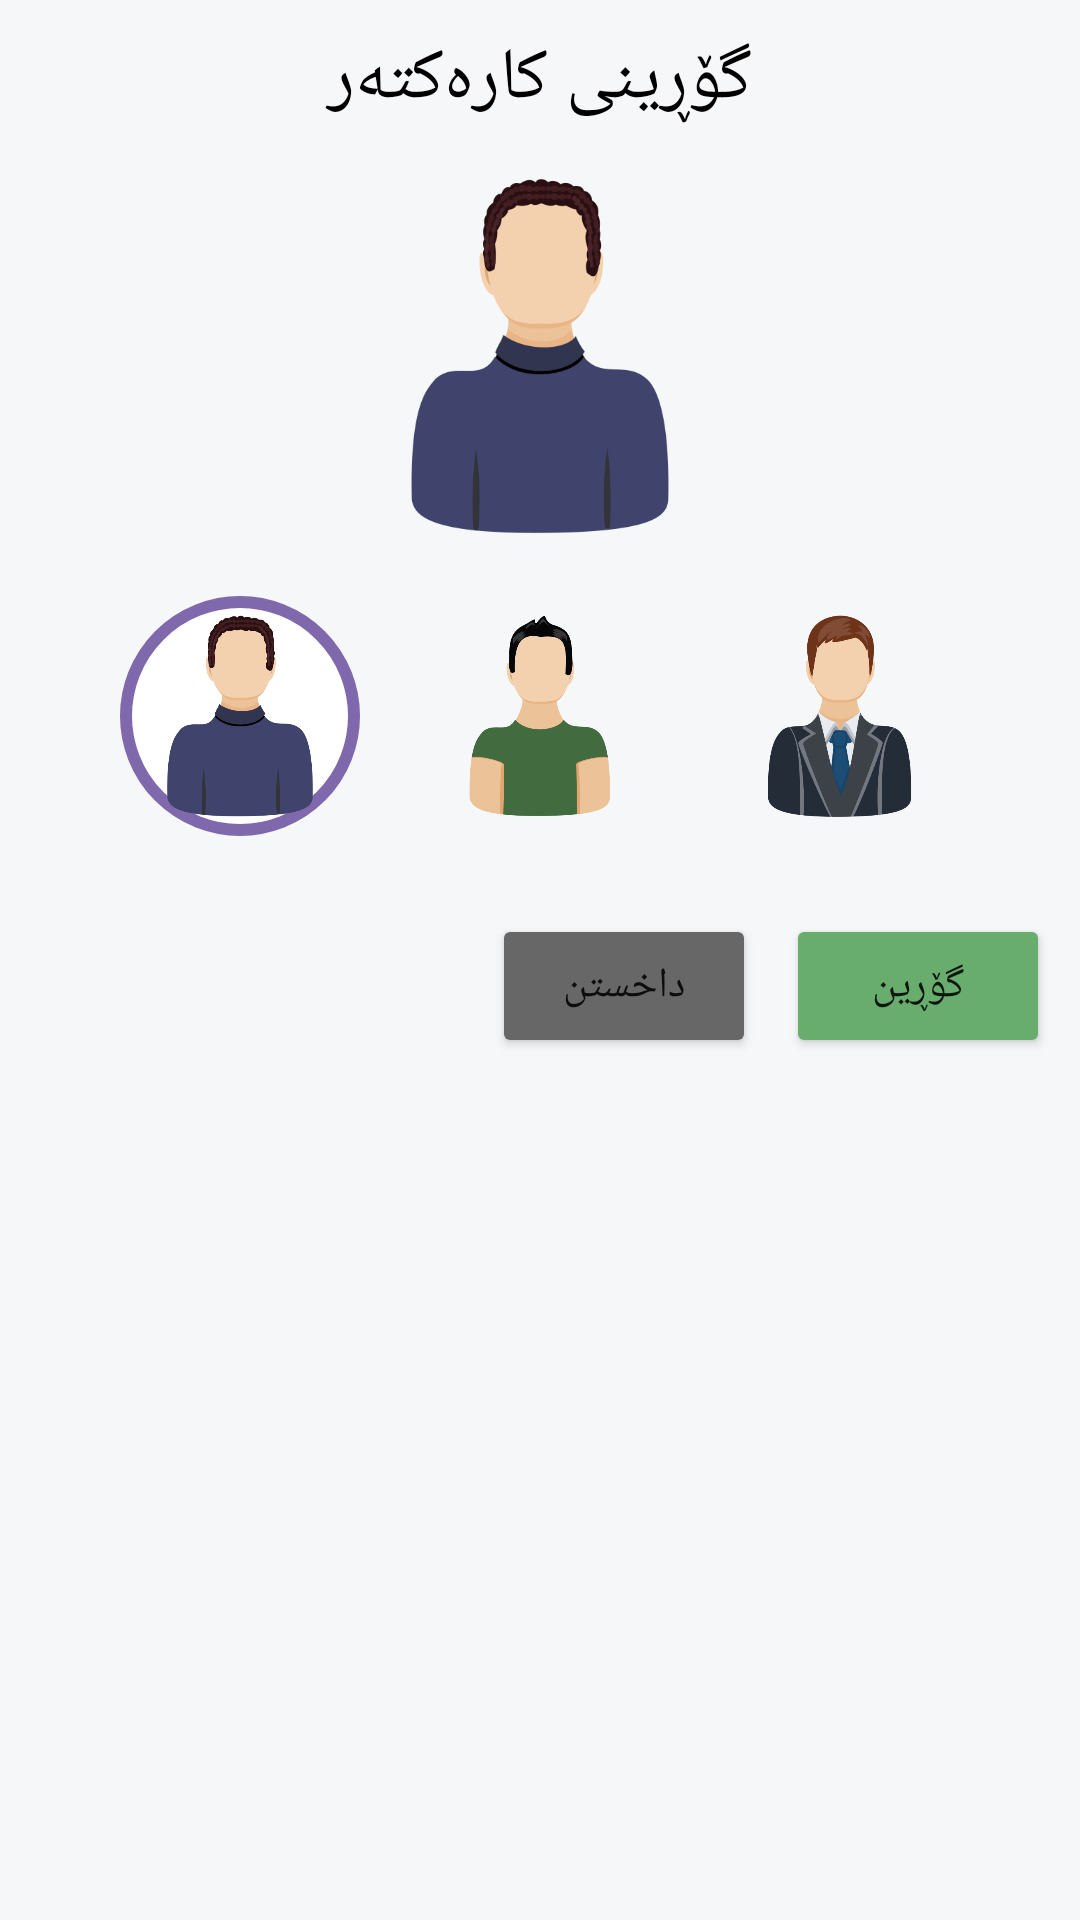

Named icons in this screenshot (1080×1920) and their centers, (x,y):
man: (540,356), (240,716), (839,716), (539,716)
